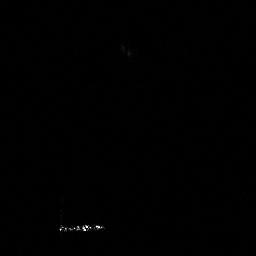ship: (55, 221, 107, 234)
